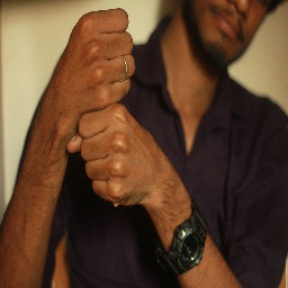G: (43, 1, 172, 212)
